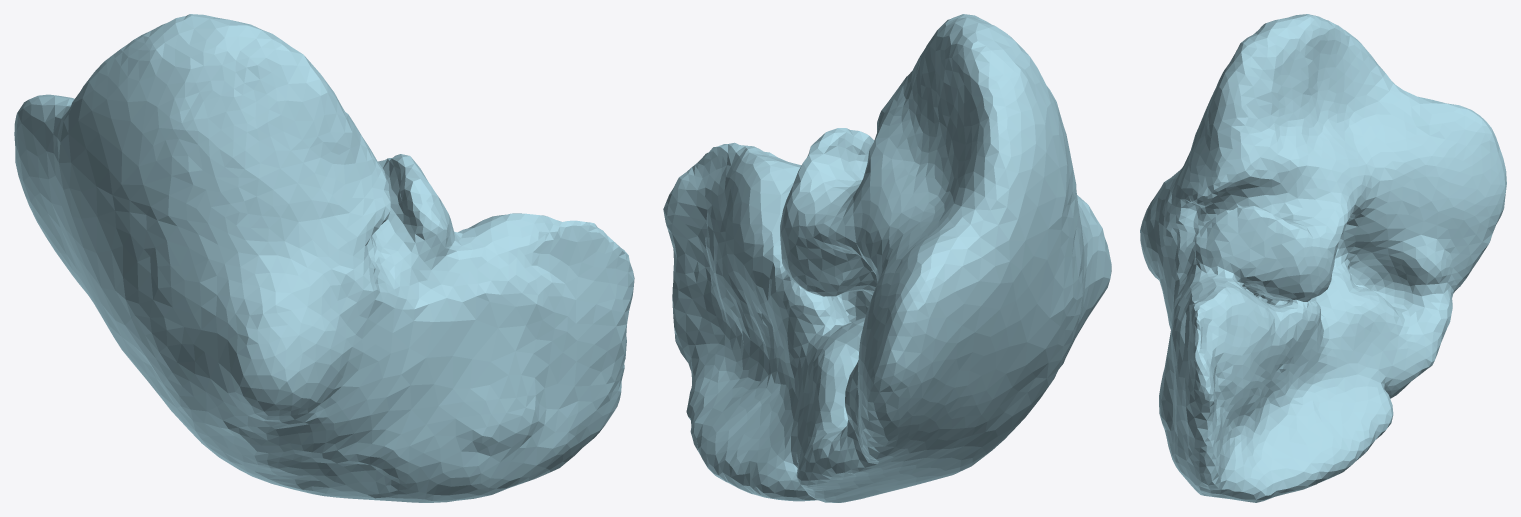
The model's file is liver.obj.
3 views of the same model, side by side, from view 1: azimuth 30°, elevation 25°; view 2: azimuth 150°, elevation 25°; view 3: azimuth 270°, elevation 25° (orthographic). The views are drawn at different scales.
Parts seen in each view (by area): view 1: grp1; view 2: grp1; view 3: grp1.
Part boxes in pixels (x1,y1,x2,y2): grp1: (14, 14, 634, 502); grp1: (663, 14, 1111, 502); grp1: (1140, 14, 1506, 502).
Bounding box in the file's own units: 201 × 207 × 179.
